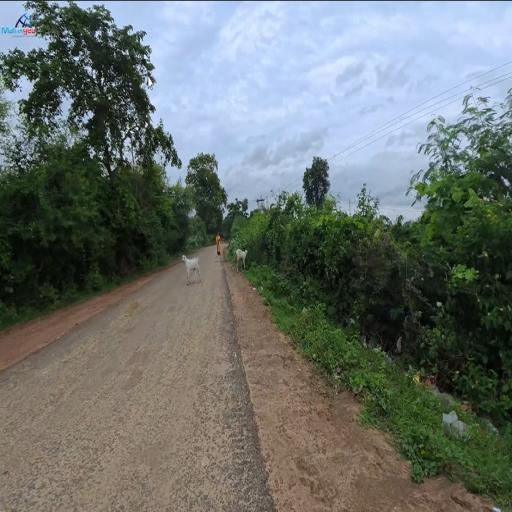ravelling: (173, 356, 241, 494)
